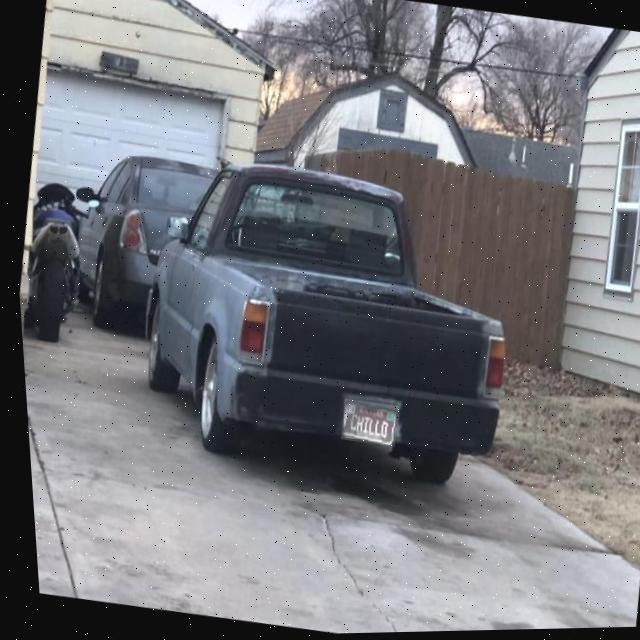LicensePlate: (335, 401, 392, 448)
